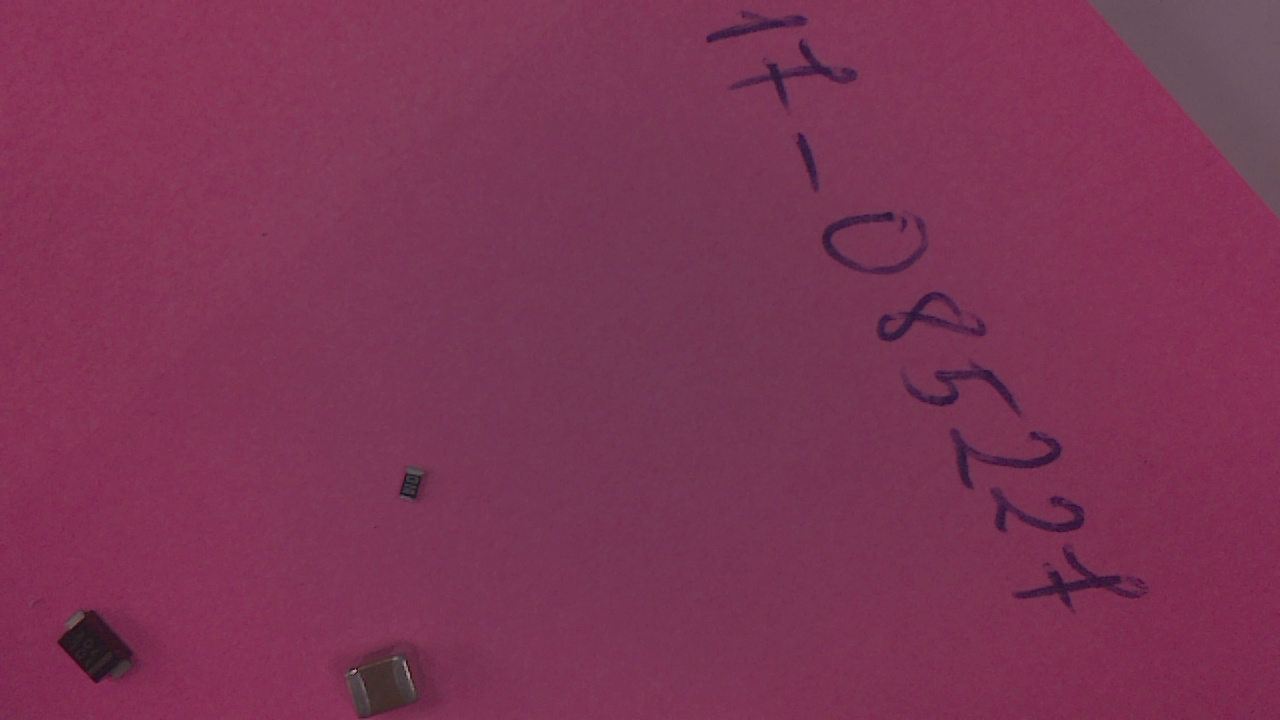Condensator: (351, 639, 432, 720)
Diode: (58, 609, 144, 691)
Resistor: (394, 470, 435, 508)
